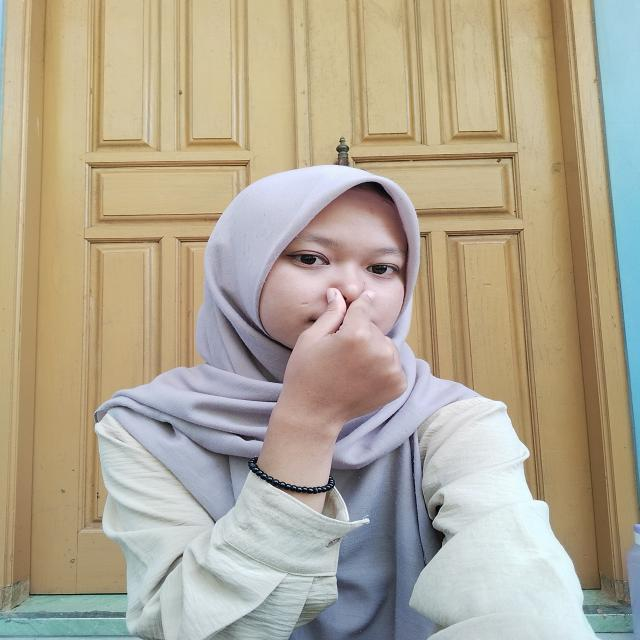bau: (260, 268, 430, 436)
